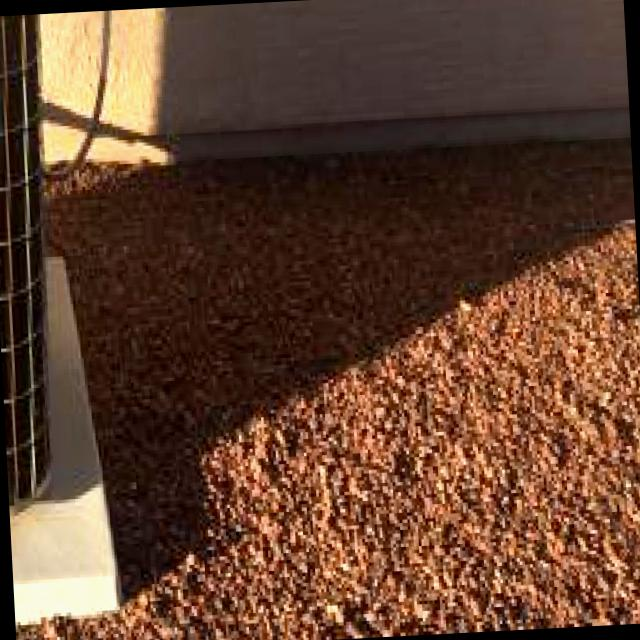SPLIT-SYSTEM: (0, 12, 96, 543)
